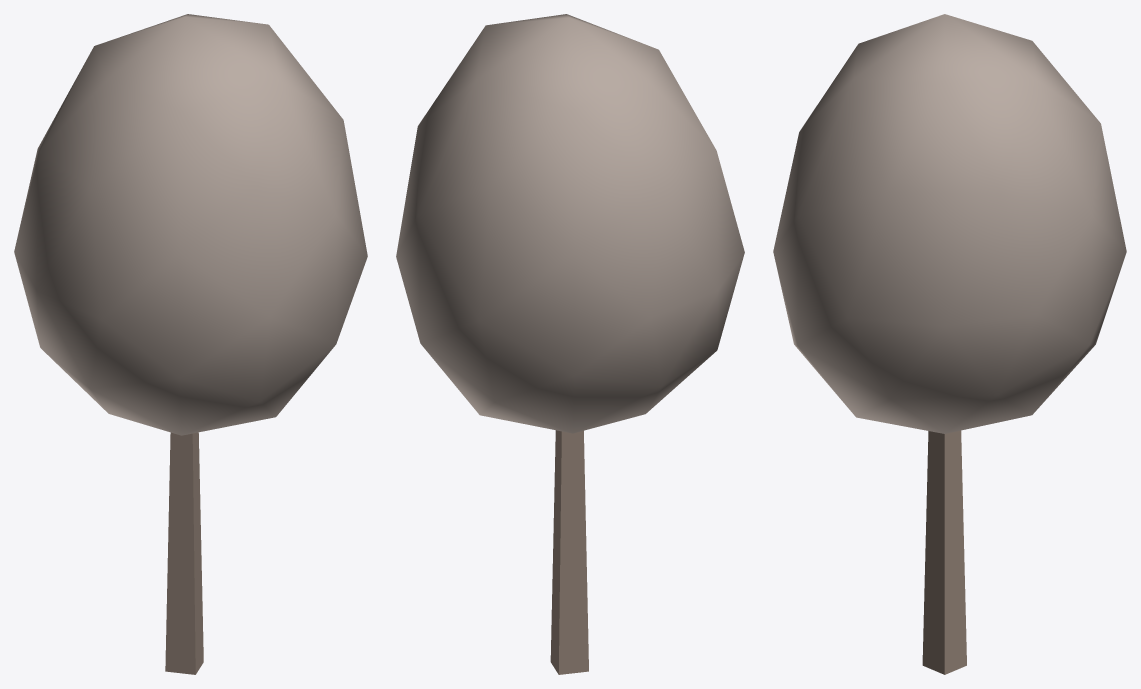
File: tree-broadleaf-a-bare-far.glb
3 views of the same model, side by side, from view 1: azimuth 30°, elevation 25°; view 2: azimuth 150°, elevation 25°; view 3: azimuth 270°, elevation 25° (orthographic).
Parts seen in each view (by area): view 1: tree-broadleaf-a-bare-far; view 2: tree-broadleaf-a-bare-far; view 3: tree-broadleaf-a-bare-far.
Part boxes in pixels (bbox=[...]): tree-broadleaf-a-bare-far: bbox=[14, 14, 367, 674]; tree-broadleaf-a-bare-far: bbox=[396, 14, 744, 674]; tree-broadleaf-a-bare-far: bbox=[773, 14, 1126, 674].
Bounding box in the file's own units: 0.4701 × 0.9726 × 0.4783.
